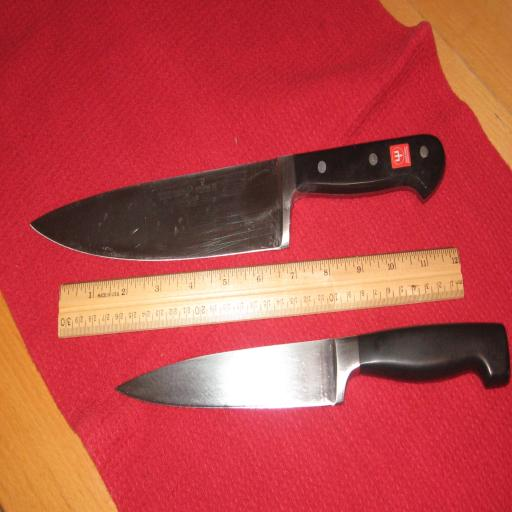knife: (20, 118, 465, 283)
